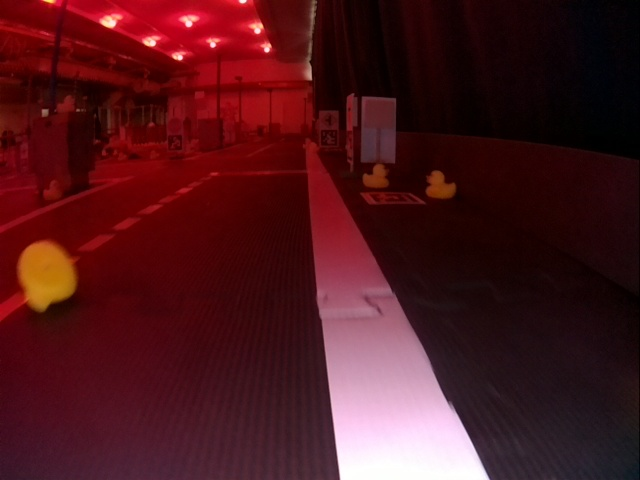Duckie: (19, 240, 78, 310), (426, 170, 457, 199), (362, 163, 389, 188)
Intersection sign: (321, 111, 338, 127)
QR code: (361, 192, 424, 205), (321, 130, 339, 146)
